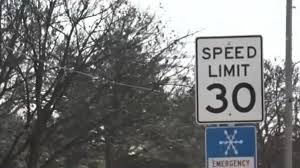sp30: (202, 79, 261, 114)
